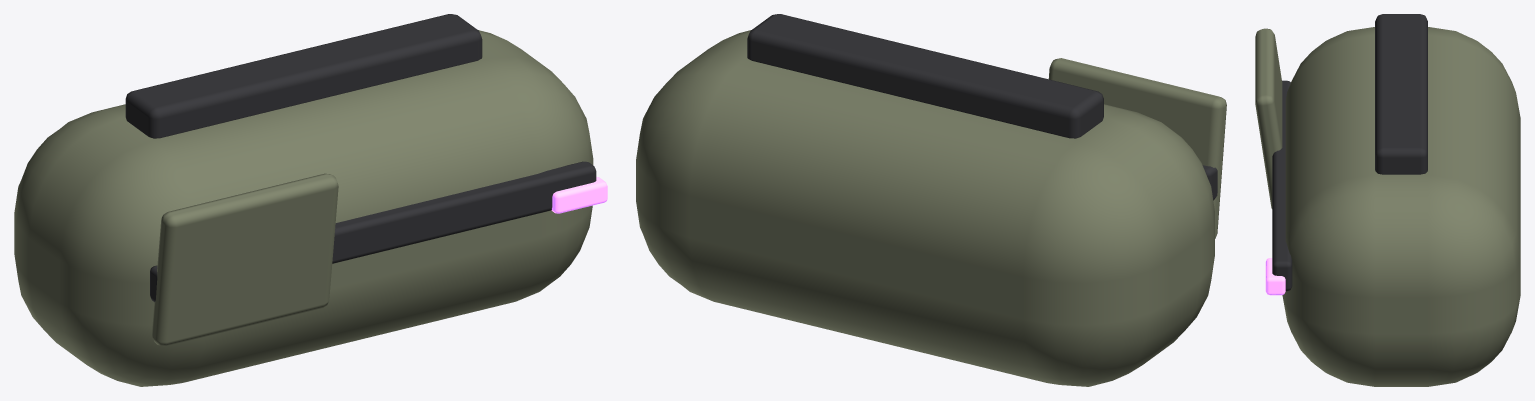
File: battle-royale-town-and-airfield-duffel-bag-0ce9ff41__28241.glb
3 views of the same model, side by side, from view 1: azimuth 30°, elevation 25°; view 2: azimuth 150°, elevation 25°; view 3: azimuth 270°, elevation 25° (orthographic). The views are drawn at different scales.
Visible parts, largest first — view 1: duffel-bag; view 2: duffel-bag; view 3: duffel-bag.
Boxes of the visible parts, x1,y1,x2,y2 form: duffel-bag: [14, 14, 607, 386]; duffel-bag: [636, 14, 1226, 386]; duffel-bag: [1255, 14, 1520, 386].
Bounding box in the file's own units: 0.78 × 0.38 × 0.401.
